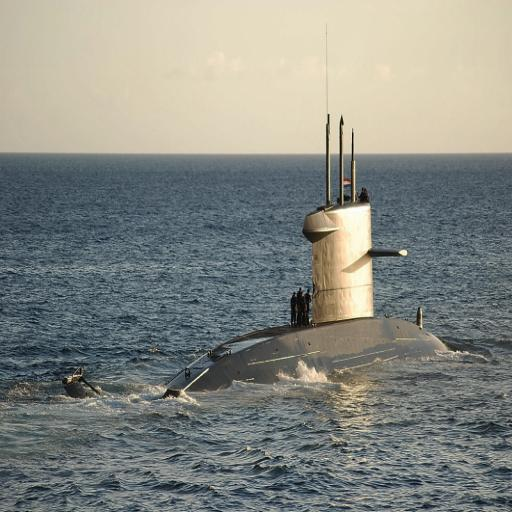submarine: (164, 100, 459, 401)
